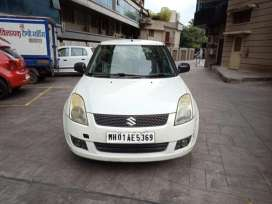license_plate: (106, 132, 154, 142)
